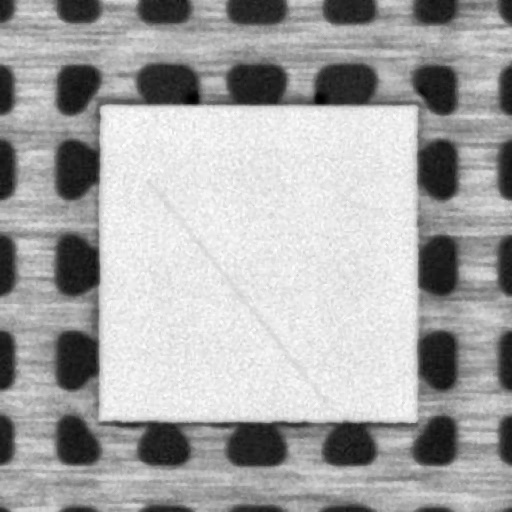DIE_CRACK: (146, 179, 324, 402)
